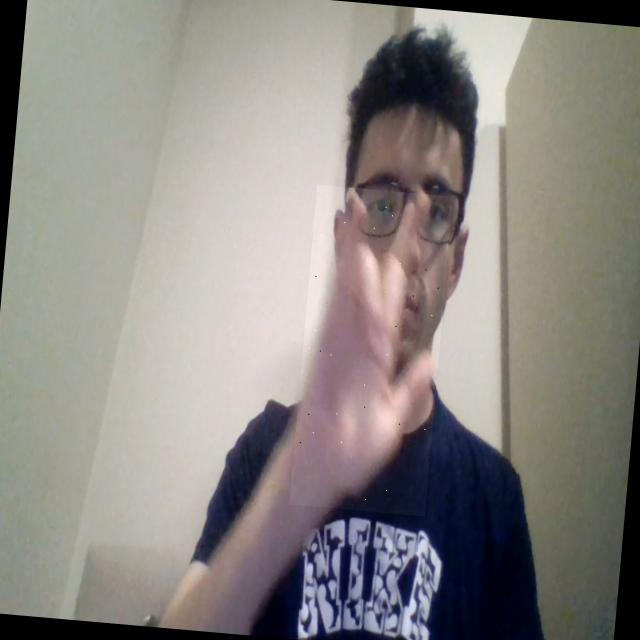iloveyou: (289, 185, 452, 518)
